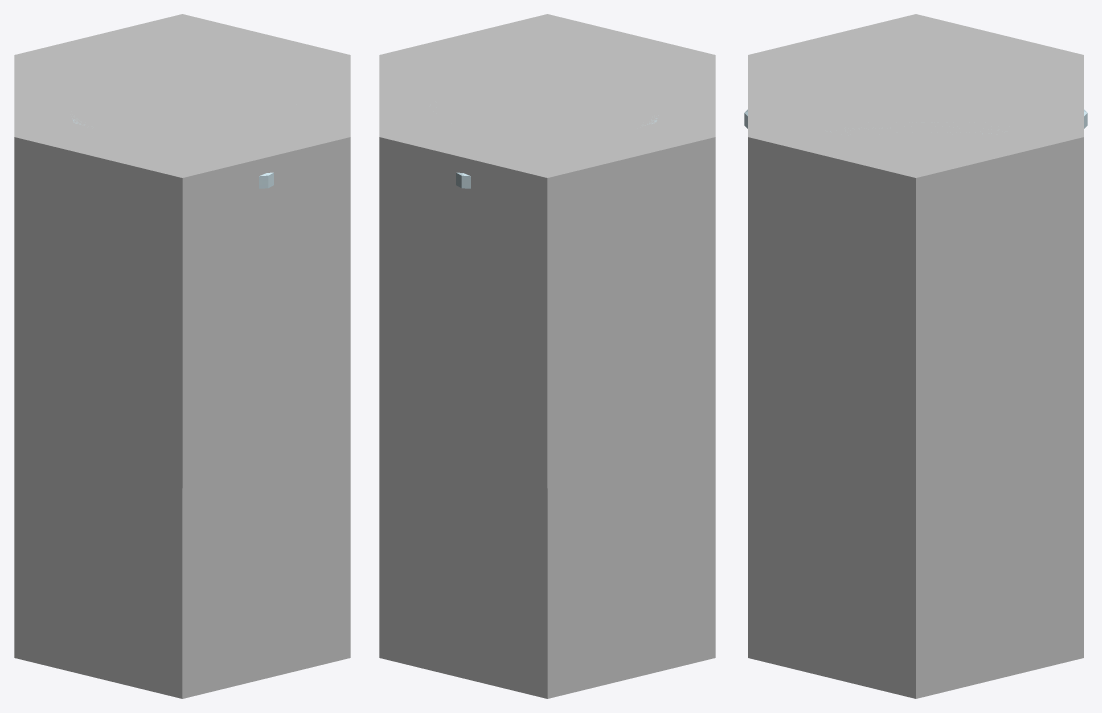
Rendered from SM_BulletinBoard.fbx.
3 views of the same model, side by side, from view 1: azimuth 30°, elevation 25°; view 2: azimuth 150°, elevation 25°; view 3: azimuth 270°, elevation 25° (orthographic).
Parts seen in each view (by area): view 1: SM_BulletinBoard_ConvexHulls; view 2: SM_BulletinBoard_ConvexHulls; view 3: SM_BulletinBoard_ConvexHulls.
Part boxes in pixels (box(x1,y1,x2,y2)): SM_BulletinBoard_ConvexHulls: box(14, 14, 350, 698); SM_BulletinBoard_ConvexHulls: box(379, 14, 715, 698); SM_BulletinBoard_ConvexHulls: box(748, 14, 1083, 698).
Size of the model in its own units: 153 by 135 by 226.
Materials: 2 (1 with a texture image).
